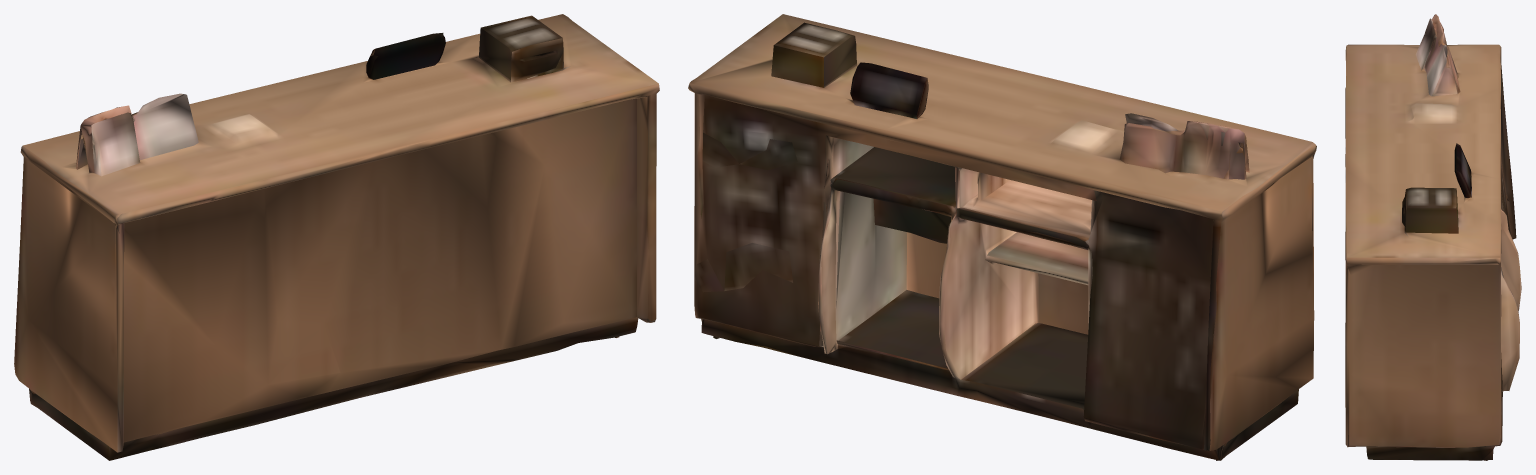
Rendered from meson_recepcion.movil.glb.
3 renders of one model, left to right at view 1: azimuth 30°, elevation 25°; view 2: azimuth 150°, elevation 25°; view 3: azimuth 270°, elevation 25°, orthographic. The views are drawn at different scales.
Parts seen in each view (by area): view 1: geometry_0; view 2: geometry_0; view 3: geometry_0.
Part boxes in pixels (left/top/right/bottom): geometry_0: left=14, top=14, right=659, bottom=460; geometry_0: left=688, top=14, right=1316, bottom=460; geometry_0: left=1345, top=14, right=1521, bottom=460.
Size of the model in its own units: 2 by 1.1 by 0.6981.
1 material, 1 textured.
